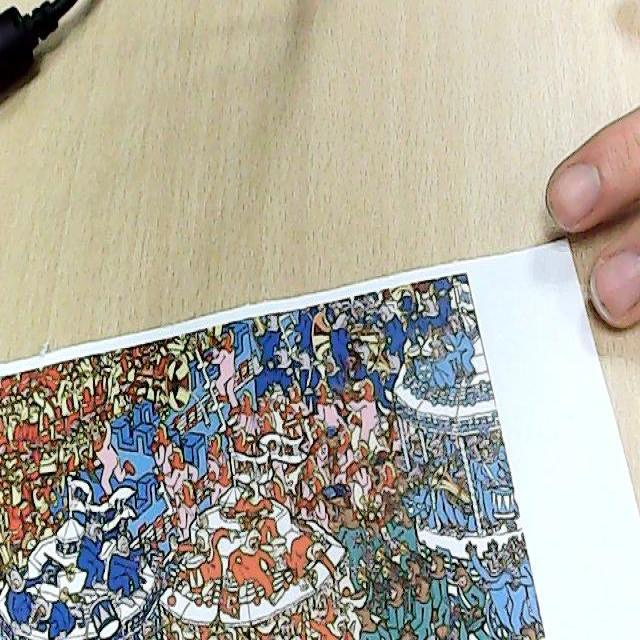waldo: (391, 447, 404, 473)
